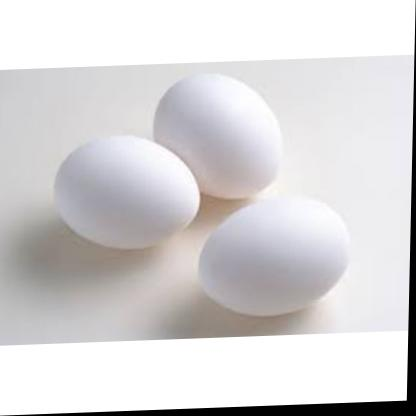egg: (193, 196, 357, 324), (49, 130, 204, 258), (152, 67, 293, 203)
